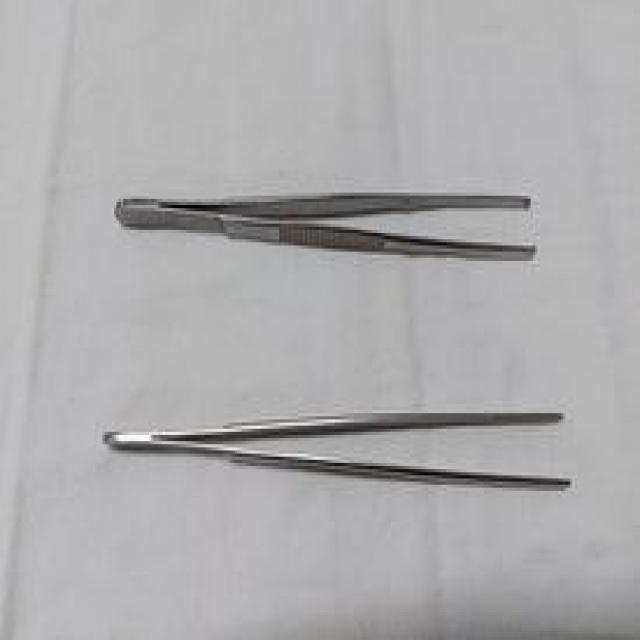Forceps: (102, 404, 572, 494), (114, 186, 540, 268)
